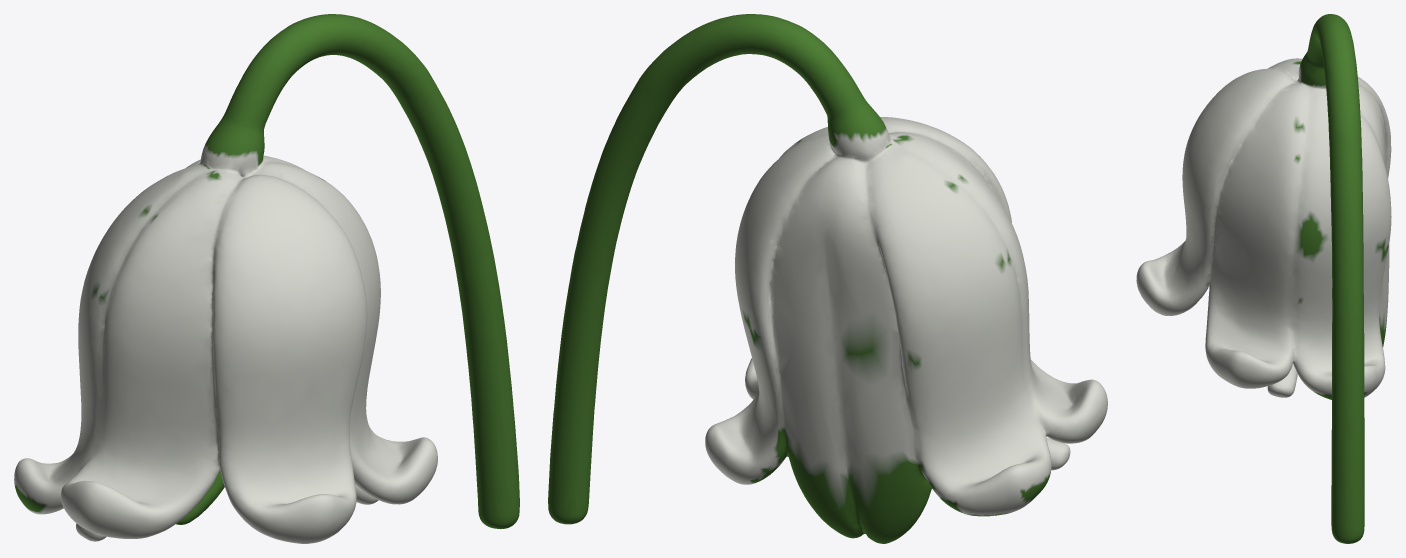
File: lily_of_valley.glb
The picture shows the model from 3 angles, left to right: view 1: azimuth 30°, elevation 25°; view 2: azimuth 150°, elevation 25°; view 3: azimuth 270°, elevation 25°; orthographic projection. The views are drawn at different scales.
Parts seen in each view (by area): view 1: lily_of_valley; view 2: lily_of_valley; view 3: lily_of_valley.
Part boxes in pixels (x1,y1,x2,y2): lily_of_valley: [14, 14, 519, 543]; lily_of_valley: [548, 14, 1107, 543]; lily_of_valley: [1136, 14, 1391, 543].
Bounding box in the file's own units: 0.9437 × 1 × 0.5196.
